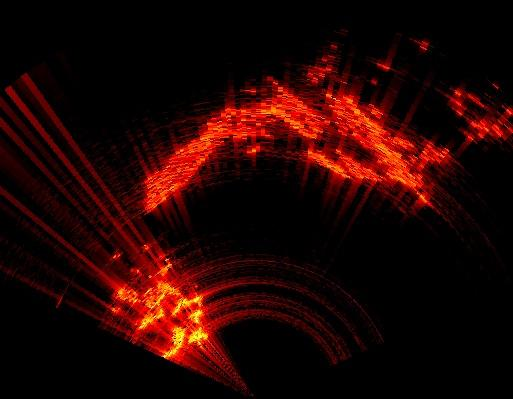shipwreck: (329, 97, 425, 201), (207, 79, 330, 140), (136, 282, 207, 359), (145, 139, 213, 212), (308, 149, 385, 185), (420, 144, 446, 159)
